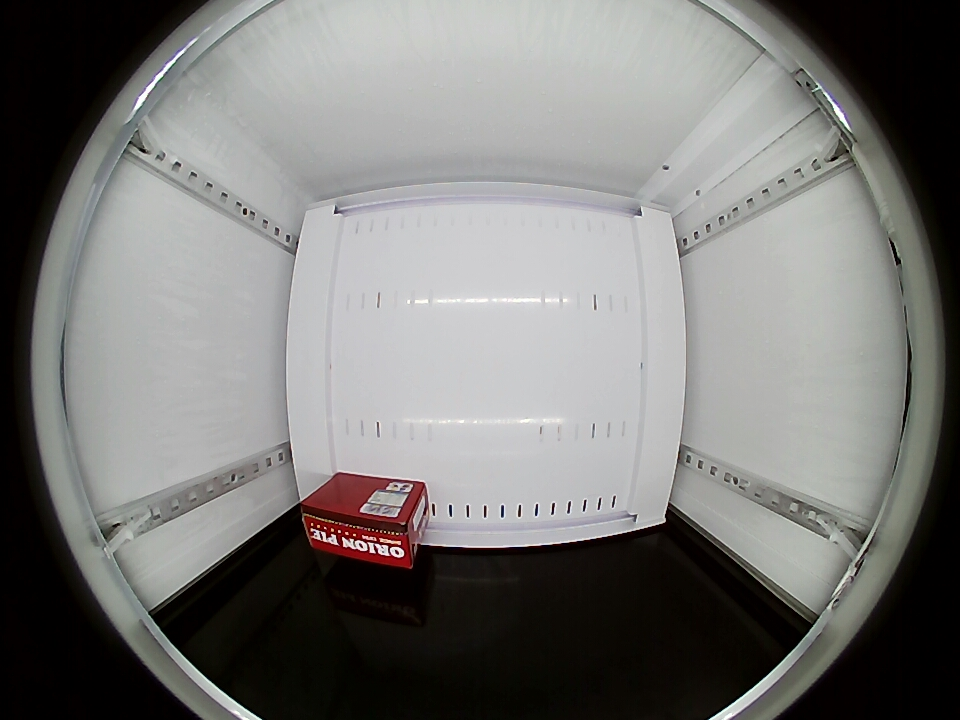haoliyou: (302, 482, 424, 569)
